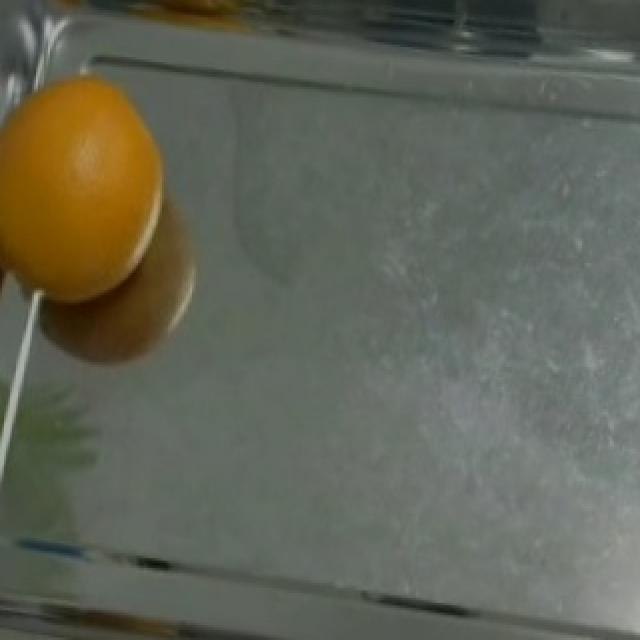Fruit: (2, 67, 186, 330)
